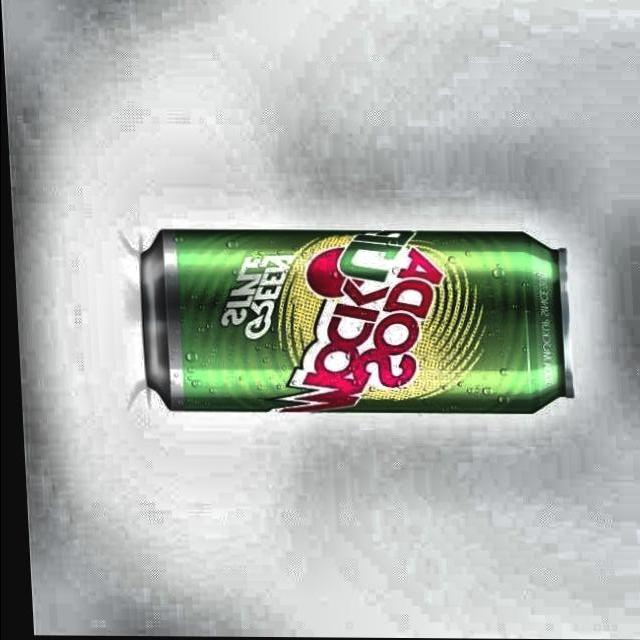Aluminum Can: (112, 215, 588, 430)
